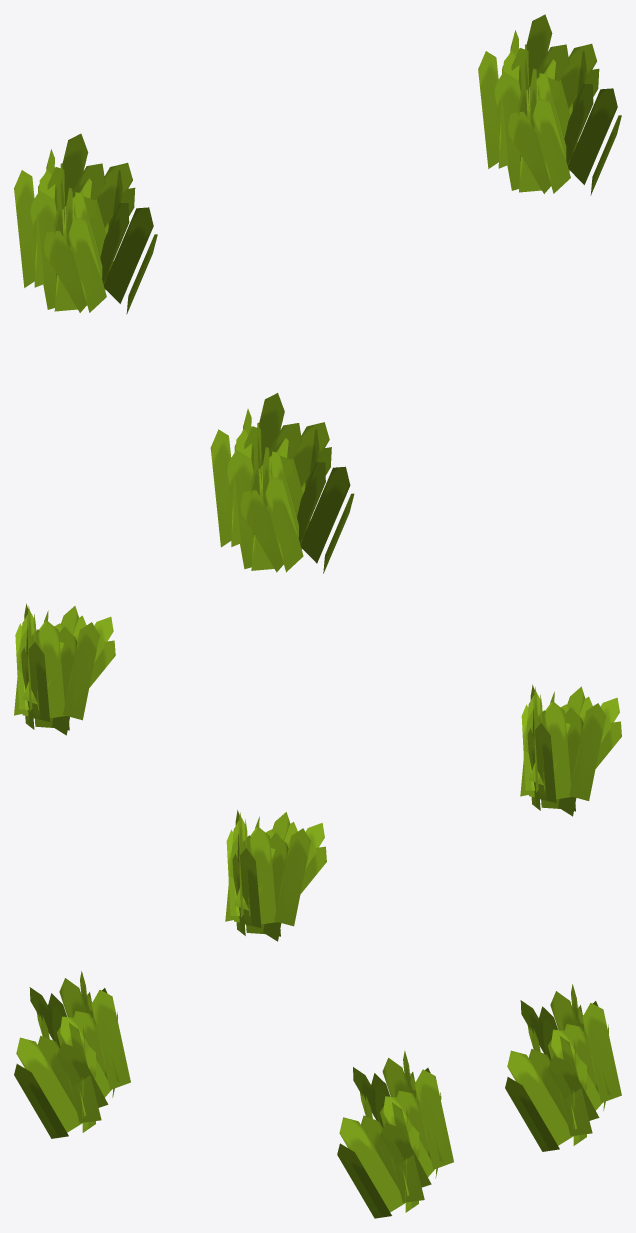
The model's file is grassTile2.obj.
3 renders of one model, top to bottom at view 1: azimuth 30°, elevation 25°; view 2: azimuth 150°, elevation 25°; view 3: azimuth 270°, elevation 25°, orthographic. The views are drawn at different scales.
Parts seen in each view (by area): view 1: GrassTile2_Plane.018; view 2: GrassTile2_Plane.018; view 3: GrassTile2_Plane.018.
Boxes of the visible parts, x1,y1,x2,y2 form: GrassTile2_Plane.018: (14, 14, 621, 573); GrassTile2_Plane.018: (14, 603, 621, 941); GrassTile2_Plane.018: (14, 971, 621, 1218).
Size of the model in its own units: 1.9 by 0.942 by 2.05.
